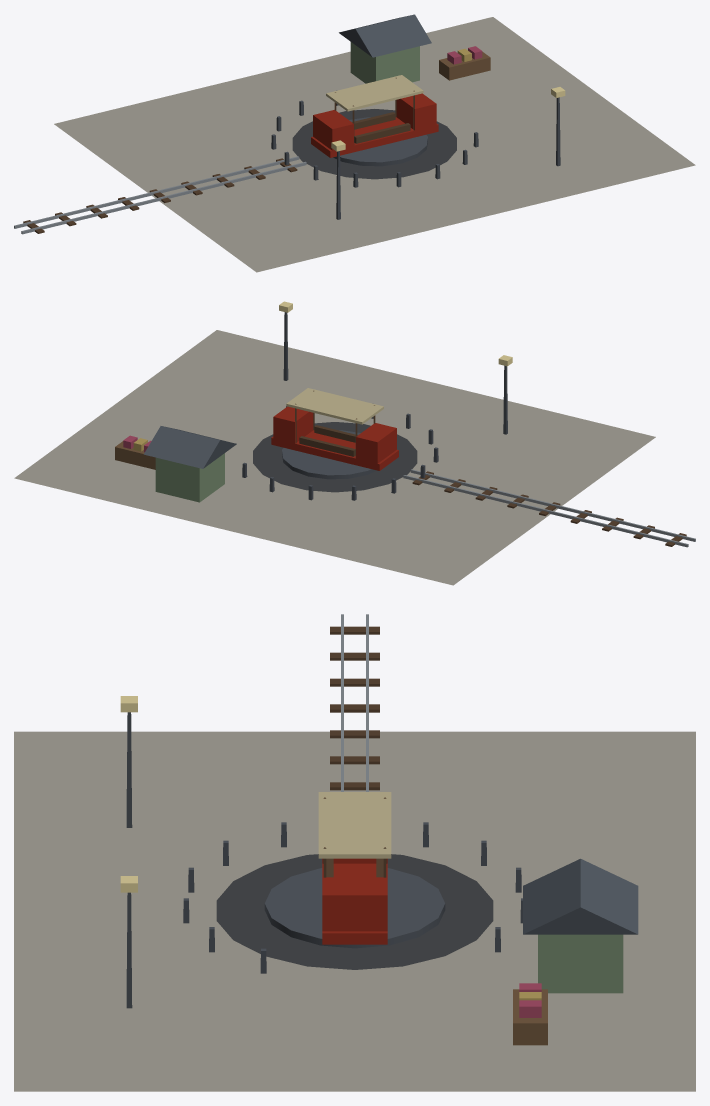
File: desktop.glb
3 renders of one model, top to bottom at view 1: azimuth 30°, elevation 25°; view 2: azimuth 150°, elevation 25°; view 3: azimuth 270°, elevation 25°, orthographic. The views are drawn at different scales.
Parts seen in each view (by area): view 1: lm.powell-turntable; view 2: lm.powell-turntable; view 3: lm.powell-turntable.
Boxes of the visible parts, x1,y1,x2,y2 form: lm.powell-turntable: [14, 14, 695, 272]; lm.powell-turntable: [14, 301, 695, 585]; lm.powell-turntable: [14, 614, 695, 1091].
Size of the model in its own units: 44.6 by 5.64 by 27.2.
